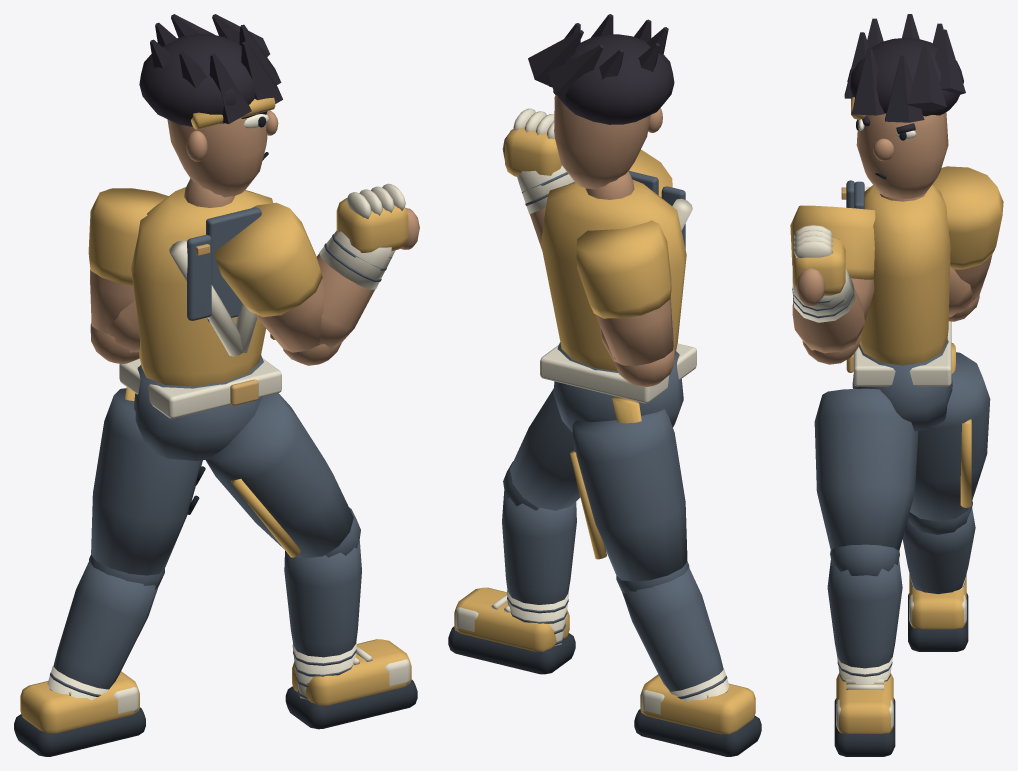
Rendered from shan-rig-v2.glb.
The picture shows the model from 3 angles, left to right: view 1: azimuth 30°, elevation 25°; view 2: azimuth 150°, elevation 25°; view 3: azimuth 270°, elevation 25°; orthographic projection. The views are drawn at different scales.
Parts seen in each view (by area): view 1: shan__torso_surface, shan__head_surface, shan__thighF_surface, shan__thighB_surface, shan__upperArmF_surface, shan__shinB_surface, shan__shinF_surface, shan__upperArmB_surface, shan__footB_surface, shan__footF_surface, shan__pelvis_surface, shan__forearmF_surface (+2 smaller); view 2: shan__head_surface, shan__thighB_surface, shan__torso_surface, shan__upperArmB_surface, shan__shinB_surface, shan__shinF_surface, shan__footB_surface, shan__footF_surface, shan__thighF_surface, shan__pelvis_surface, shan__handF_surface, shan__forearmF_surface (+2 smaller); view 3: shan__torso_surface, shan__thighF_surface, shan__head_surface, shan__thighB_surface, shan__shinF_surface, shan__upperArmB_surface, shan__footF_surface, shan__upperArmF_surface, shan__shinB_surface, shan__forearmF_surface, shan__footB_surface, shan__handF_surface (+2 smaller).
Part boxes in pixels (x1,y1,x2,y2): shan__torso_surface: (119,187,281,418); shan__head_surface: (139,14,282,207); shan__thighF_surface: (205,393,360,558); shan__thighB_surface: (89,388,205,589); shan__upperArmF_surface: (214,202,341,365); shan__shinB_surface: (47,561,158,700); shan__shinF_surface: (284,539,361,699); shan__upperArmB_surface: (88,188,168,363); shan__footB_surface: (14,671,145,756); shan__footF_surface: (285,639,417,729); shan__pelvis_surface: (133,355,263,460); shan__forearmF_surface: (317,230,395,348); shan__head_surface: (528,14,674,199); shan__thighB_surface: (570,409,689,594); shan__torso_surface: (540,171,696,403); shan__upperArmB_surface: (576,220,674,386); shan__shinB_surface: (622,568,729,701); shan__shinF_surface: (502,490,576,645); shan__footB_surface: (634,674,761,756); shan__footF_surface: (448,587,575,674); shan__thighF_surface: (503,389,580,510); shan__pelvis_surface: (553,342,683,432); shan__handF_surface: (502,108,561,176); shan__forearmF_surface: (517,165,574,250); shan__torso_surface: (841,180,951,386); shan__thighF_surface: (814,388,918,576); shan__head_surface: (844,14,965,201); shan__thighB_surface: (908,352,990,534); shan__shinF_surface: (827,559,902,684); shan__upperArmB_surface: (932,166,1003,321); shan__footF_surface: (834,673,895,756); shan__upperArmF_surface: (790,205,875,364); shan__shinB_surface: (902,508,975,594); shan__forearmF_surface: (792,268,864,353); shan__footB_surface: (908,574,968,651); shan__handF_surface: (792,225,845,305).
Size of the model in its own units: 1.75 by 3.42 by 1.02.
